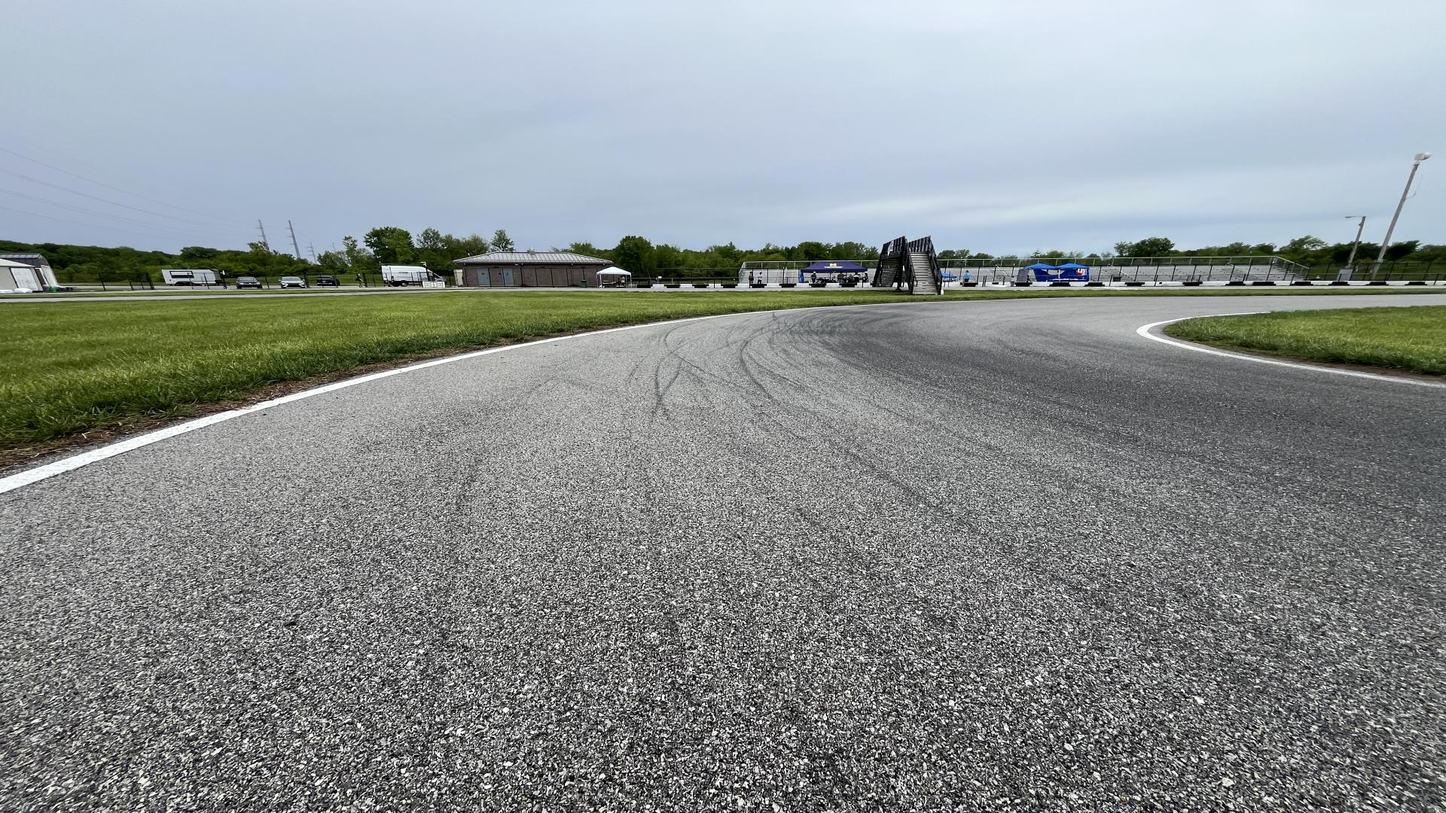white-line: (0, 300, 954, 501), (1138, 309, 1445, 388)
